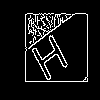H: (25, 25, 71, 83)
